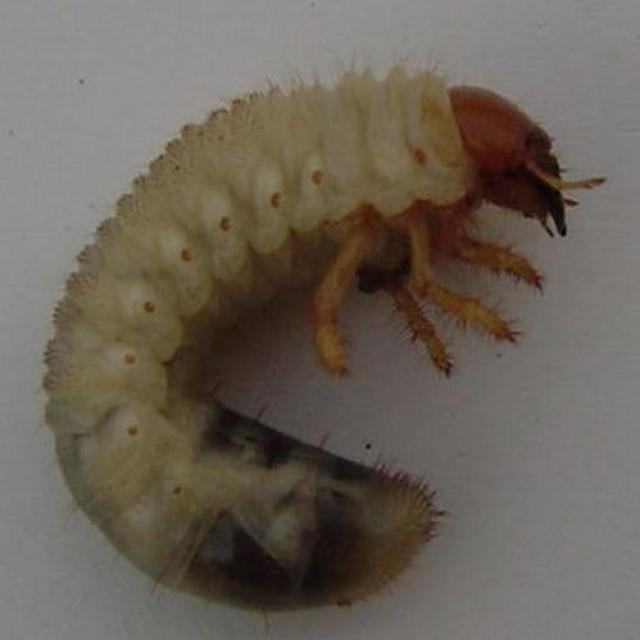Grub-Adult-: (37, 67, 576, 613)
